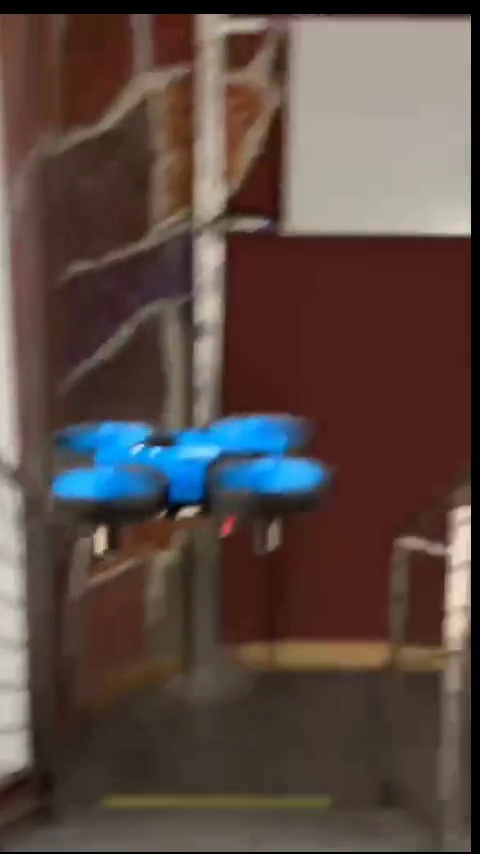drone: (44, 420, 336, 565)
